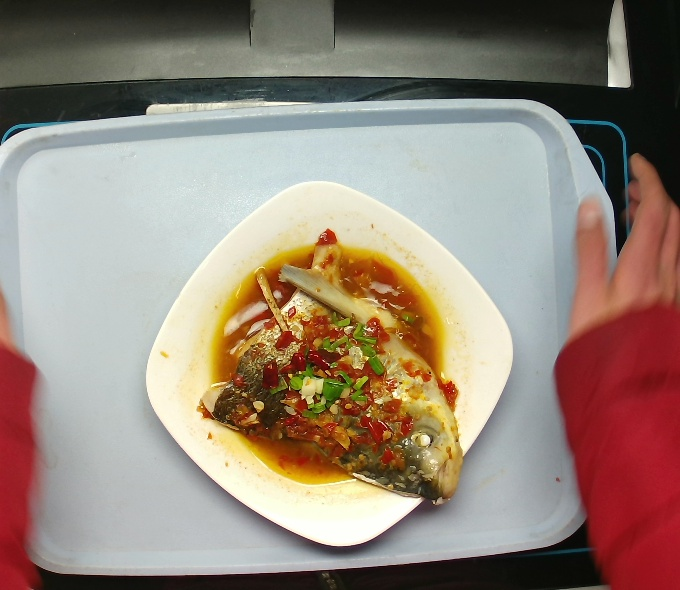wcq-DuoJiaoYuTou: (194, 224, 468, 507)
